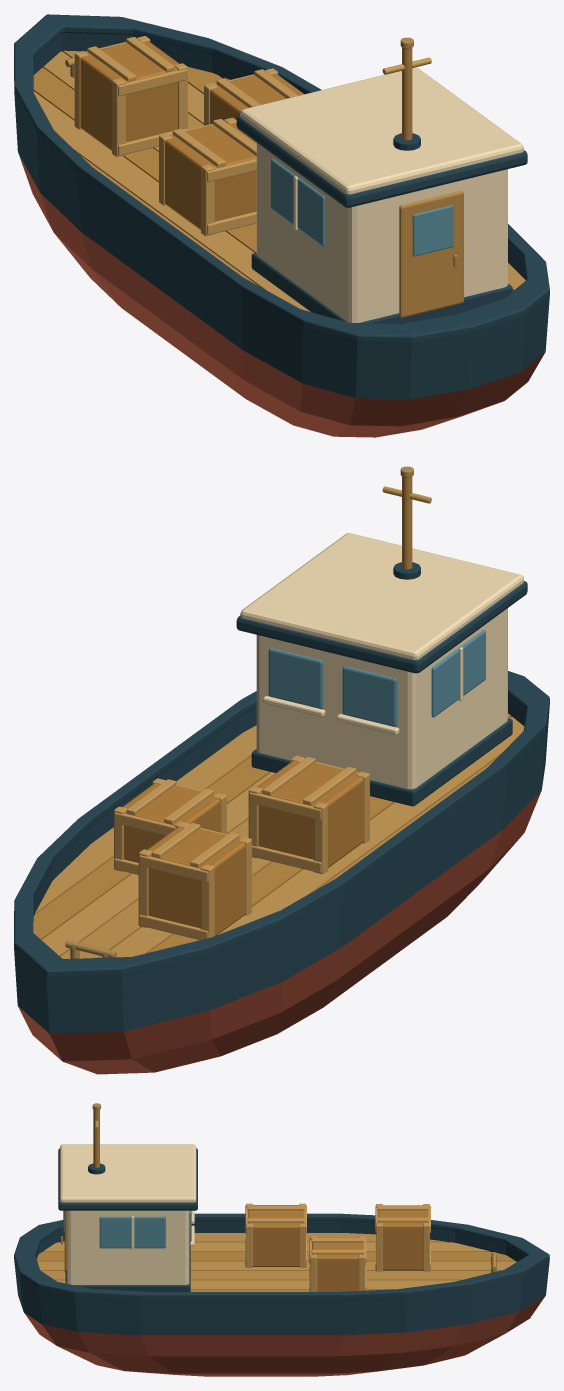
The model's file is test_boat.glb.
3 renders of one model, top to bottom at view 1: azimuth 30°, elevation 25°; view 2: azimuth 150°, elevation 25°; view 3: azimuth 270°, elevation 25°, orthographic. The views are drawn at different scales.
Visible parts, largest first — view 1: Shaped capped hull with real inset deck well, Cream aft cabin, Cream gently softened roof, Raised rounded navy gunwale, Cargo C closed ochre body, Cargo A closed ochre body, Aft timber cabin door, Longitudinal deck plank 01, Cabin roof navy lip, Cabin lower navy skirting, Side glazing -1, Longitudinal deck plank 02 (+17 smaller); view 2: Shaped capped hull with real inset deck well, Cream gently softened roof, Cream aft cabin, Raised rounded navy gunwale, Cargo A closed ochre body, Cargo C closed ochre body, Longitudinal deck plank 01, Cabin roof navy lip, Longitudinal deck plank 07, Longitudinal deck plank 06, Longitudinal deck plank 05, Cargo B closed ochre body (+16 smaller); view 3: Shaped capped hull with real inset deck well, Raised rounded navy gunwale, Cream gently softened roof, Cream aft cabin, Cargo A closed ochre body, Longitudinal deck plank 04, Cargo C closed ochre body, Side glazing 1, Cargo B closed ochre body, Longitudinal deck plank 03, Longitudinal deck plank 05, Longitudinal deck plank 02 (+7 smaller).
Boxes of the visible parts, x1,y1,x2,y2 form: Shaped capped hull with real inset deck well: (14, 32, 549, 437); Cream aft cabin: (256, 143, 507, 322); Cream gently softened roof: (240, 67, 523, 194); Raised rounded navy gunwale: (14, 14, 549, 341); Cargo C closed ochre body: (80, 41, 179, 150); Cargo A closed ochre body: (165, 123, 256, 229); Aft timber cabin door: (399, 190, 463, 317); Longitudinal deck plank 01: (33, 91, 310, 311); Cabin roof navy lip: (236, 115, 527, 207); Cabin lower navy skirting: (251, 252, 512, 323); Side glazing -1: (271, 159, 325, 246); Longitudinal deck plank 02: (33, 67, 256, 252); Shaped capped hull with real inset deck well: (14, 697, 549, 1074); Cream gently softened roof: (240, 533, 523, 659); Cream aft cabin: (256, 608, 507, 789); Raised rounded navy gunwale: (14, 671, 549, 976); Cargo A closed ochre body: (257, 761, 363, 867); Cargo C closed ochre body: (147, 827, 245, 935); Longitudinal deck plank 01: (218, 717, 524, 934); Cabin roof navy lip: (236, 581, 527, 673); Longitudinal deck plank 07: (35, 725, 256, 913); Longitudinal deck plank 06: (33, 756, 270, 939); Longitudinal deck plank 05: (42, 772, 275, 956); Cargo B closed ochre body: (122, 783, 220, 862); Shaped capped hull with real inset deck well: (14, 1221, 549, 1376); Raised rounded navy gunwale: (14, 1213, 549, 1298); Cream gently softened roof: (60, 1144, 196, 1202); Cream aft cabin: (67, 1210, 189, 1284); Cargo A closed ochre body: (248, 1205, 304, 1266); Longitudinal deck plank 04: (41, 1271, 498, 1280); Cargo C closed ochre body: (378, 1205, 428, 1270); Side glazing 1: (99, 1216, 165, 1248); Cargo B closed ochre body: (312, 1237, 363, 1291); Longitudinal deck plank 03: (37, 1261, 516, 1270); Longitudinal deck plank 05: (55, 1280, 459, 1289); Longitudinal deck plank 02: (36, 1252, 514, 1261).
Size of the model in its own units: 1.65 by 2.37 by 4.6.
